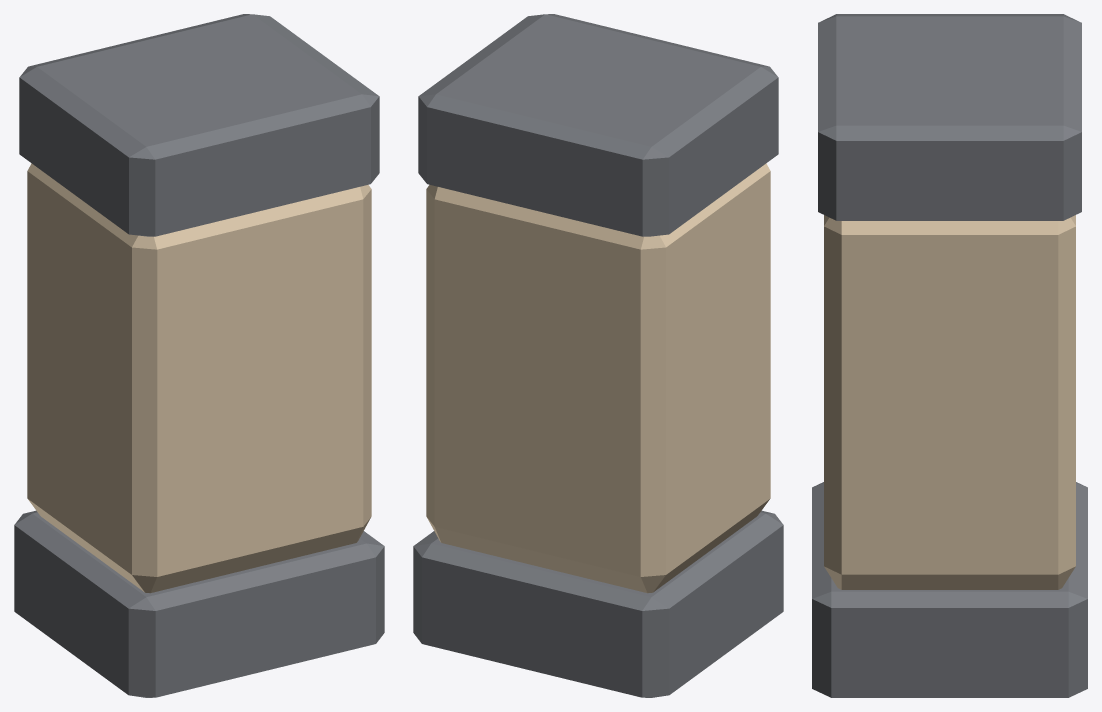
The model's file is b10_paid_newspaper_honor_box.glb.
3 views of the same model, side by side, from view 1: azimuth 30°, elevation 25°; view 2: azimuth 150°, elevation 25°; view 3: azimuth 270°, elevation 25° (orthographic). The views are drawn at different scales.
Visible parts, largest first — view 1: b10_paid_newspaper_honor_box; view 2: b10_paid_newspaper_honor_box; view 3: b10_paid_newspaper_honor_box.
Boxes of the visible parts, bbox=[...] form: b10_paid_newspaper_honor_box: bbox=[14, 14, 384, 697]; b10_paid_newspaper_honor_box: bbox=[413, 14, 783, 697]; b10_paid_newspaper_honor_box: bbox=[812, 14, 1087, 697].
Size of the model in its own units: 0.61 by 1.25 by 0.548.
